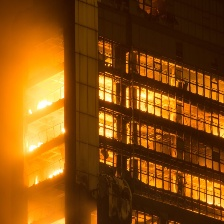fire: (32, 167, 64, 187), (34, 97, 53, 113), (27, 139, 42, 154), (59, 122, 68, 134)
